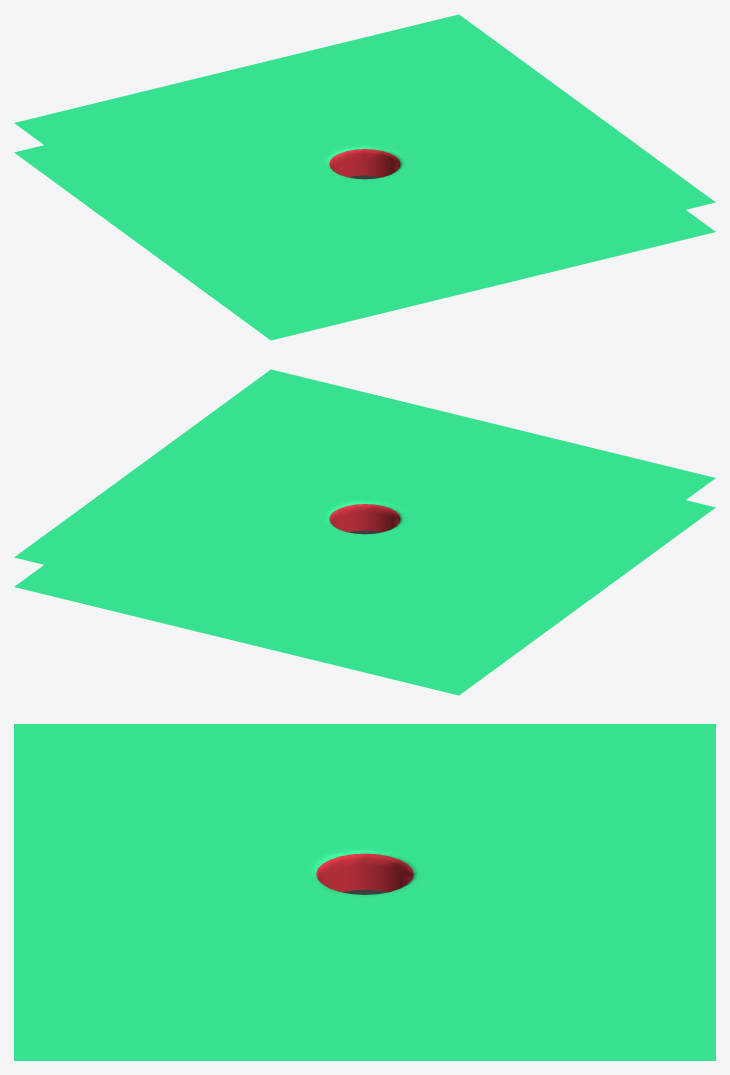
Rendered from holeOpen.fbx.
3 views of the same model, one above another, from view 1: azimuth 30°, elevation 25°; view 2: azimuth 150°, elevation 25°; view 3: azimuth 270°, elevation 25° (orthographic). The views are drawn at different scales.
Parts seen in each view (by area): view 1: holeOpen; view 2: holeOpen; view 3: holeOpen.
Boxes of the visible parts, bbox=[...] form: holeOpen: bbox=[14, 14, 715, 340]; holeOpen: bbox=[14, 369, 715, 695]; holeOpen: bbox=[14, 724, 715, 1060].
Bounding box in the file's own units: 0.9999 × 0.9999 × 0.0633.
